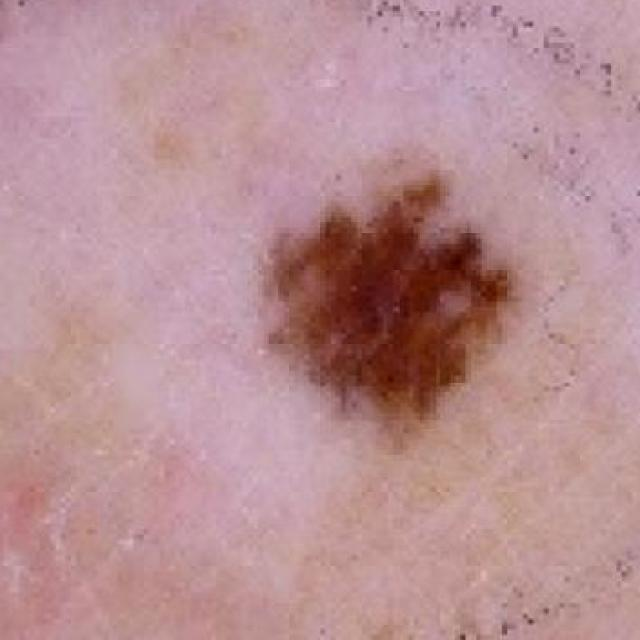MEL: (205, 126, 533, 464)
